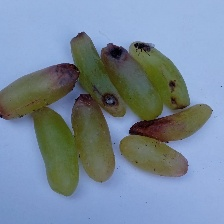grapes: (44, 32, 213, 179)
